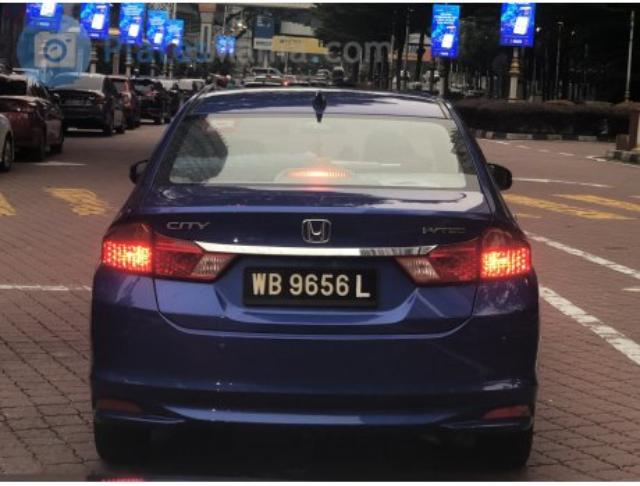License_Plate: (245, 264, 385, 315)
car: (84, 79, 541, 464)
